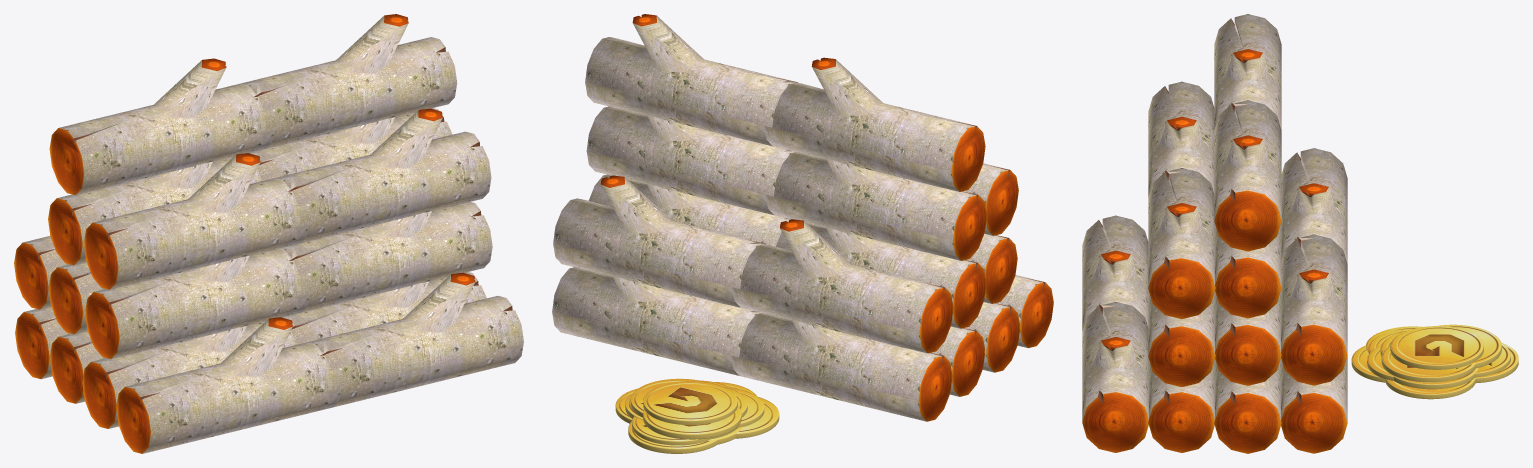
Rendered from FishingDock_INIT.glb.
3 renders of one model, left to right at view 1: azimuth 30°, elevation 25°; view 2: azimuth 150°, elevation 25°; view 3: azimuth 270°, elevation 25°, orthographic. The views are drawn at different scales.
Parts seen in each view (by area): view 1: FishingDock_INIT; view 2: FishingDock_INIT; view 3: FishingDock_INIT.
Part boxes in pixels (x1,y1,x2,y2): FishingDock_INIT: (14, 14, 523, 453); FishingDock_INIT: (552, 14, 1053, 453); FishingDock_INIT: (1082, 14, 1518, 453).
Bounding box in the file's own units: 1.33 × 1.02 × 1.38.
6 materials, 5 textured.
